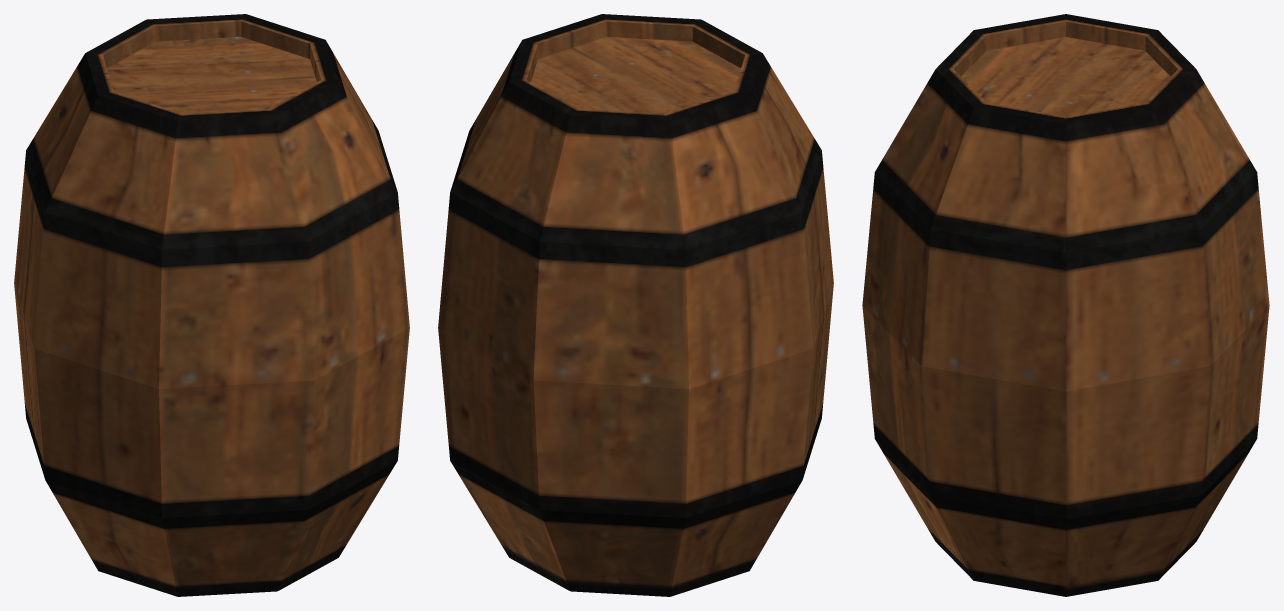
File: Barrel.fbx
The picture shows the model from 3 angles, left to right: view 1: azimuth 30°, elevation 25°; view 2: azimuth 150°, elevation 25°; view 3: azimuth 270°, elevation 25°; orthographic projection.
Parts seen in each view (by area): view 1: Barrel; view 2: Barrel; view 3: Barrel.
Boxes of the visible parts, bbox=[...] form: Barrel: bbox=[14, 14, 409, 596]; Barrel: bbox=[438, 14, 833, 596]; Barrel: bbox=[862, 14, 1269, 596].
Bounding box in the file's own units: 156 × 200 × 156.
1 material, 1 textured.
